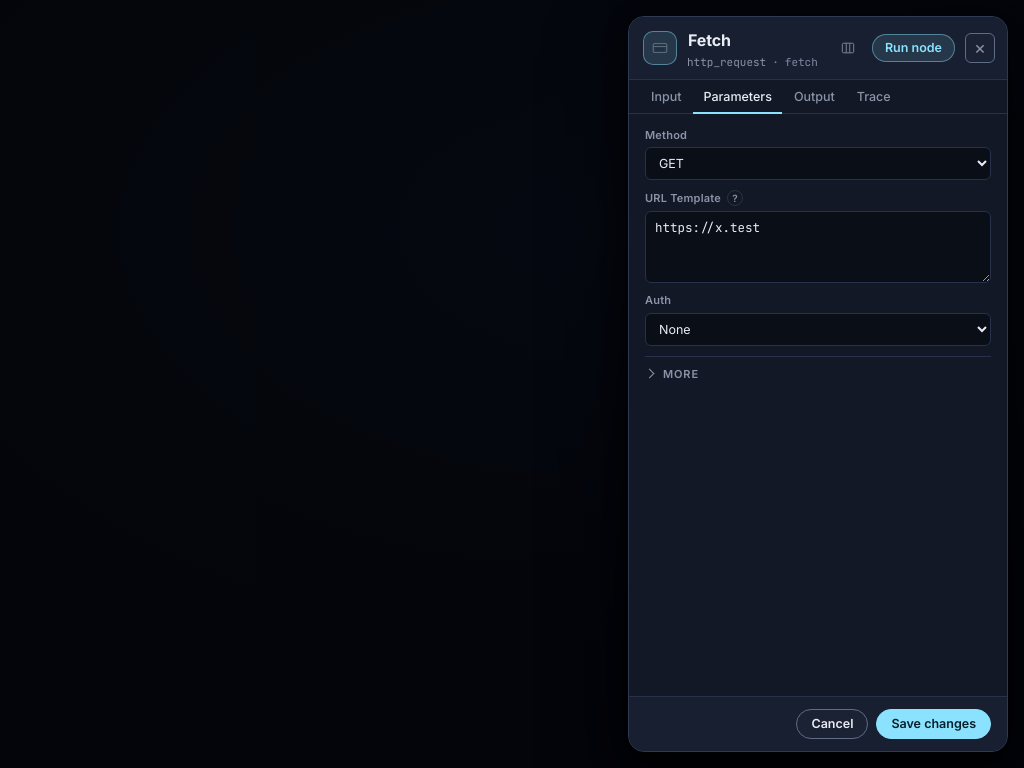
Test case: HTTP Request: fail on HTTP error status › explains the Error output once the fallback branch is chosen
Click the heading "More" at (681, 374), box [663,367,699,381]
(page scrolled)
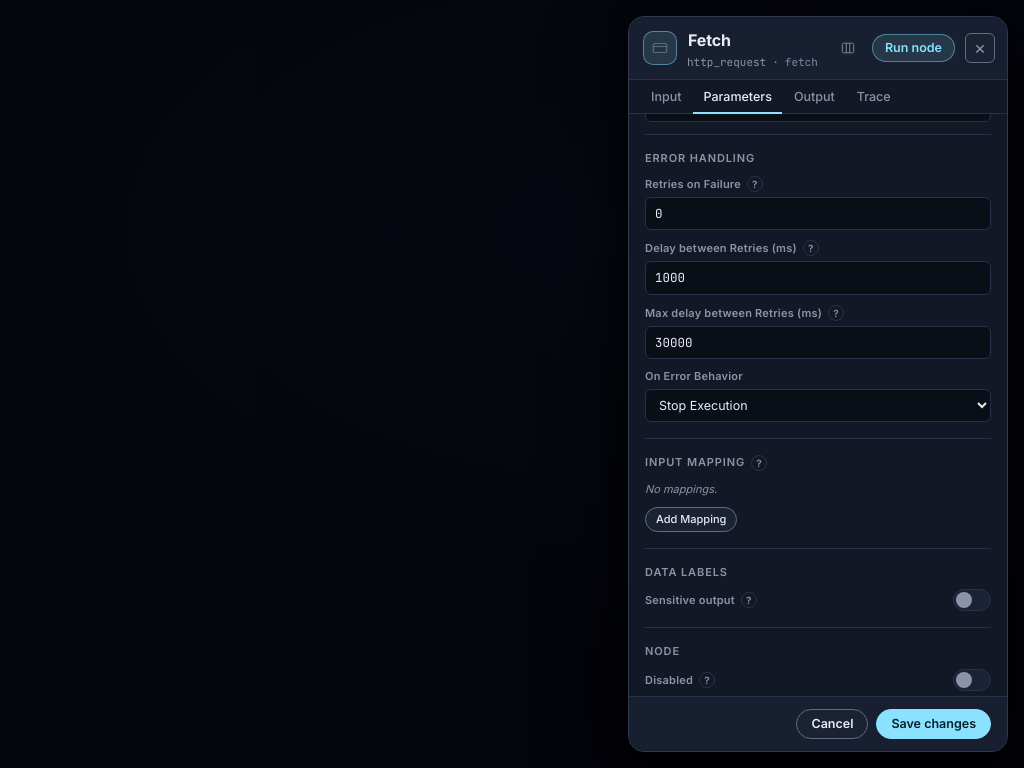
Now the number field labelled "Max delay between Retries (ms) ?" holds "30000", box [645,326,991,359]
Select "Execute Fallback Branch" in the dropdown labelled "On Error Behavior" at (818, 405), box [645,389,991,422]
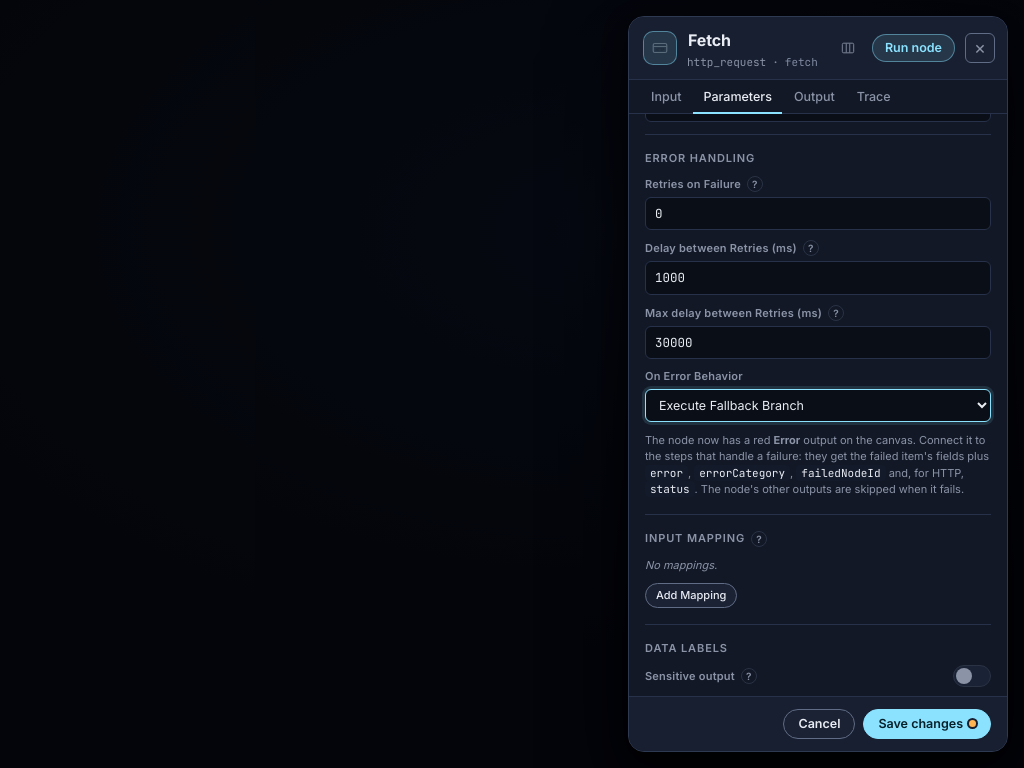
Now the element with test id "error-output-tip" shows "red Error output", box [645,432,991,498]
